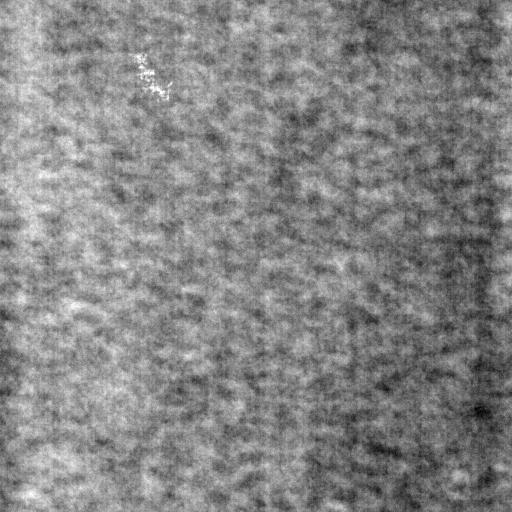DefectTypeA: (125, 45, 177, 106)
